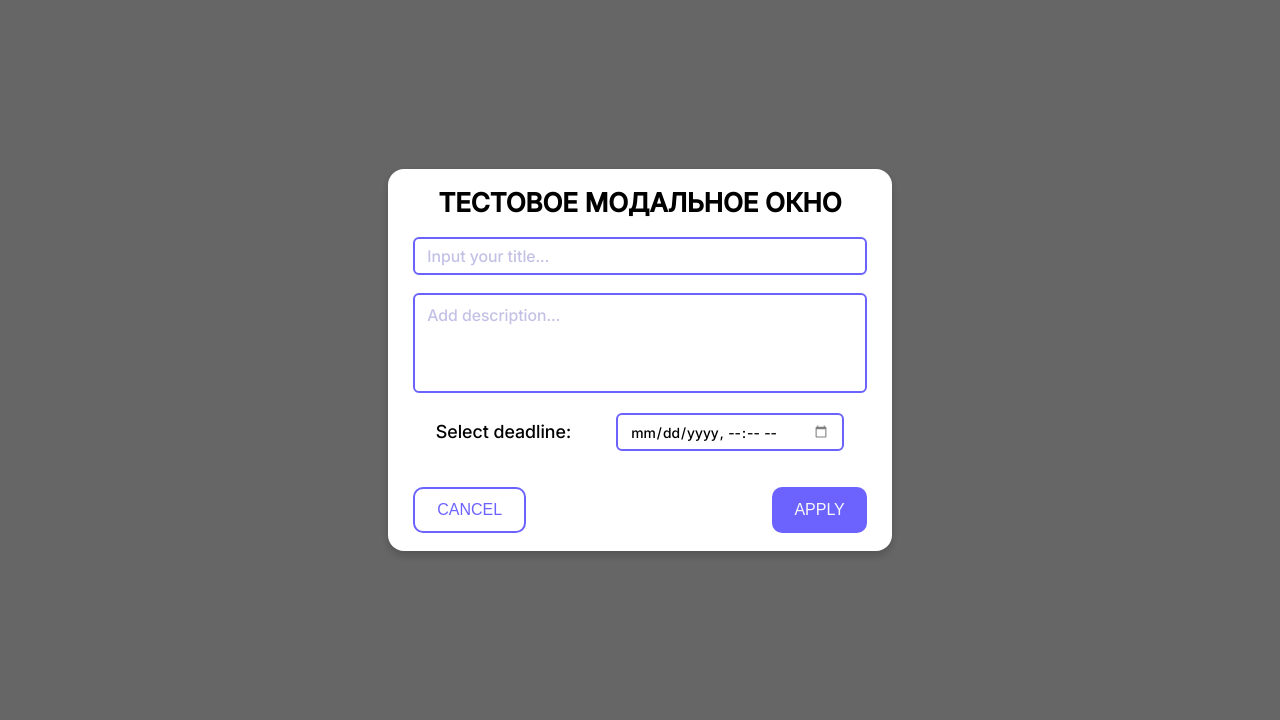
Test: Modal (Модальное окно) › показывает ошибки валидации при пустых полях
This screenshot has width=1280, height=720.
Click the button "Apply": click(820, 510) [772, 488, 867, 533]
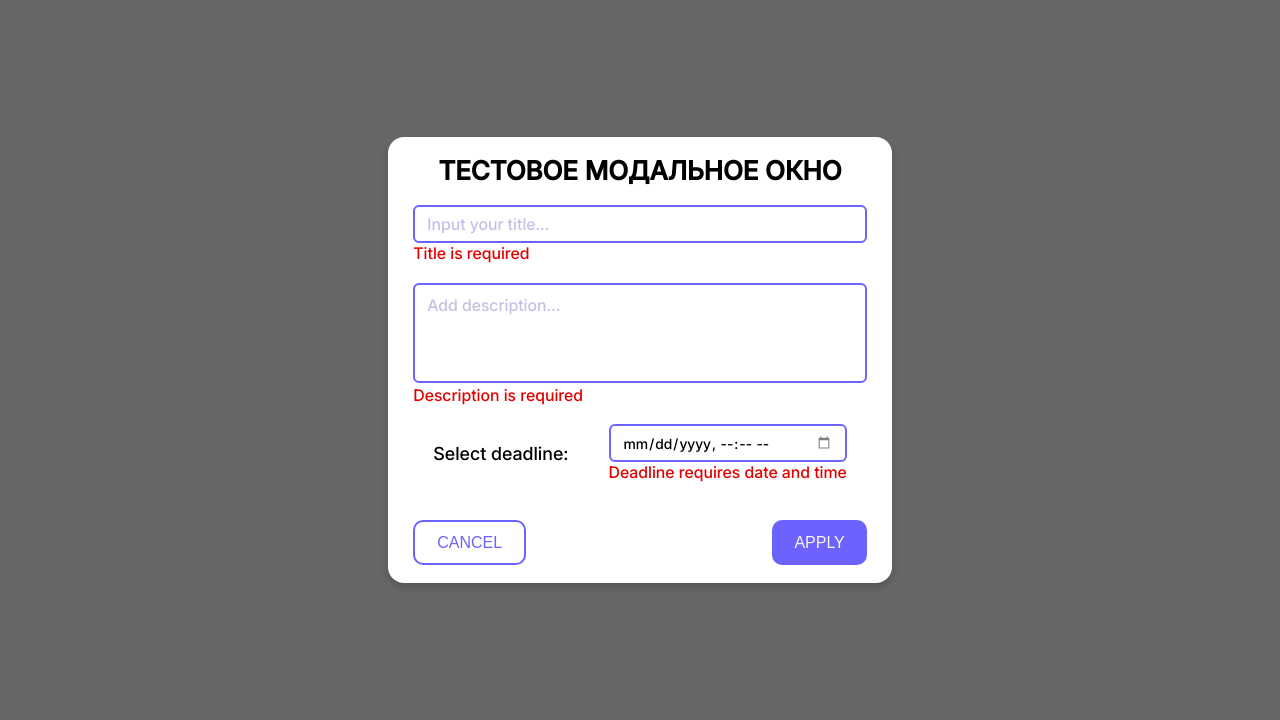
Result: the text "Title is required" is shown at [413, 243, 530, 263]
Result: the text "Description is required" is shown at [413, 385, 583, 405]
Result: the text "Deadline requires date and time" is shown at [608, 462, 847, 484]
